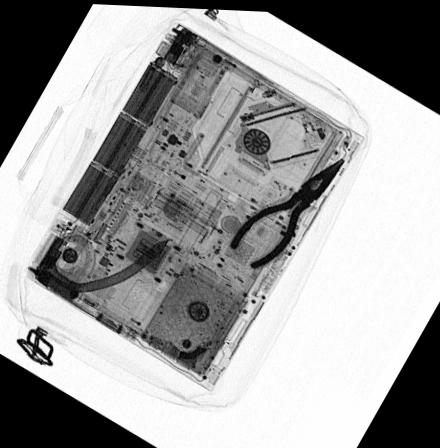Pliers: (228, 152, 348, 268)
